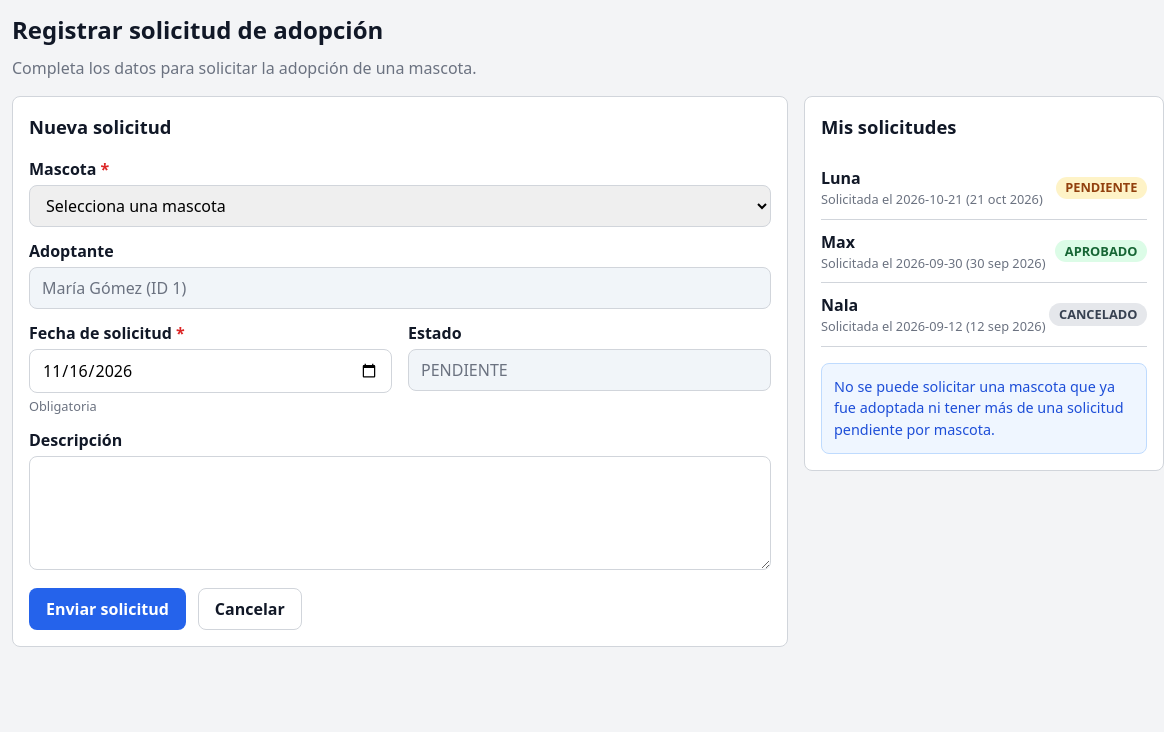
Test: AdoptionRequestPage (HU02) › registers a request and shows it in the list
Select "Toby · Poodle · 3 años · Bogotá · Sin estado" in the dropdown labelled "Mascota *": (400, 206) left=29, top=185, right=771, bottom=227
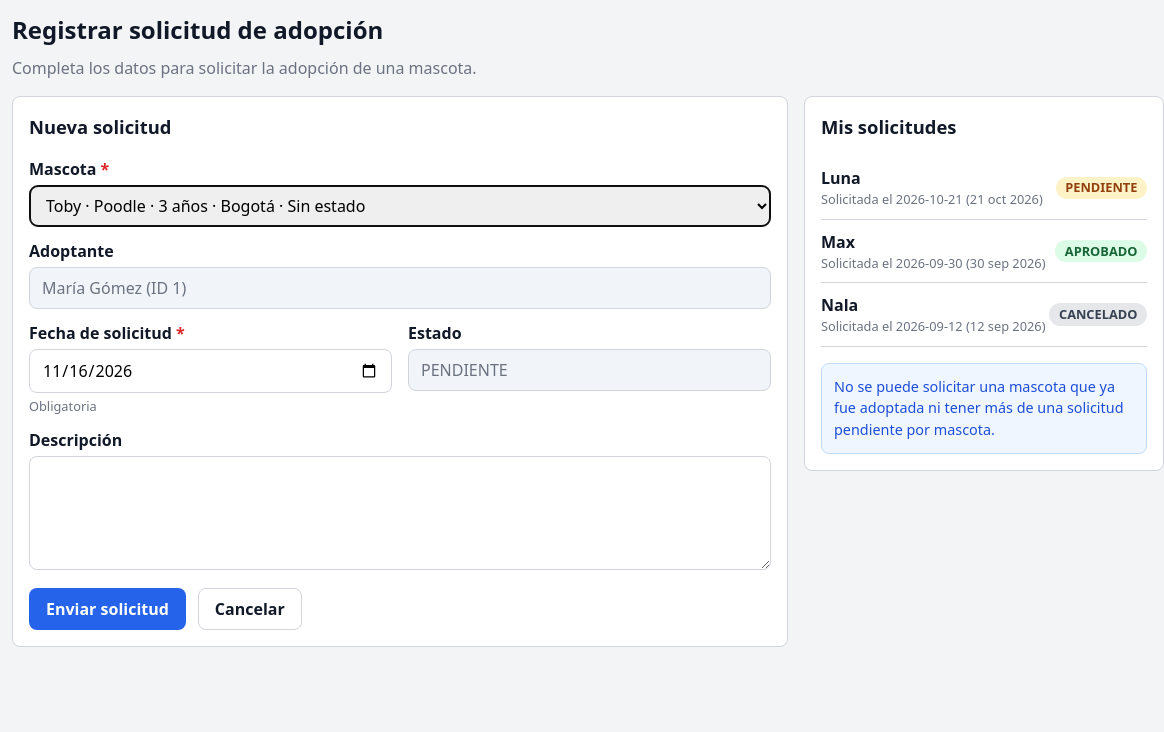
In the text box labelled "Descripción": (400, 513) left=29, top=456, right=771, bottom=570, type "Tengo un patio cercado."
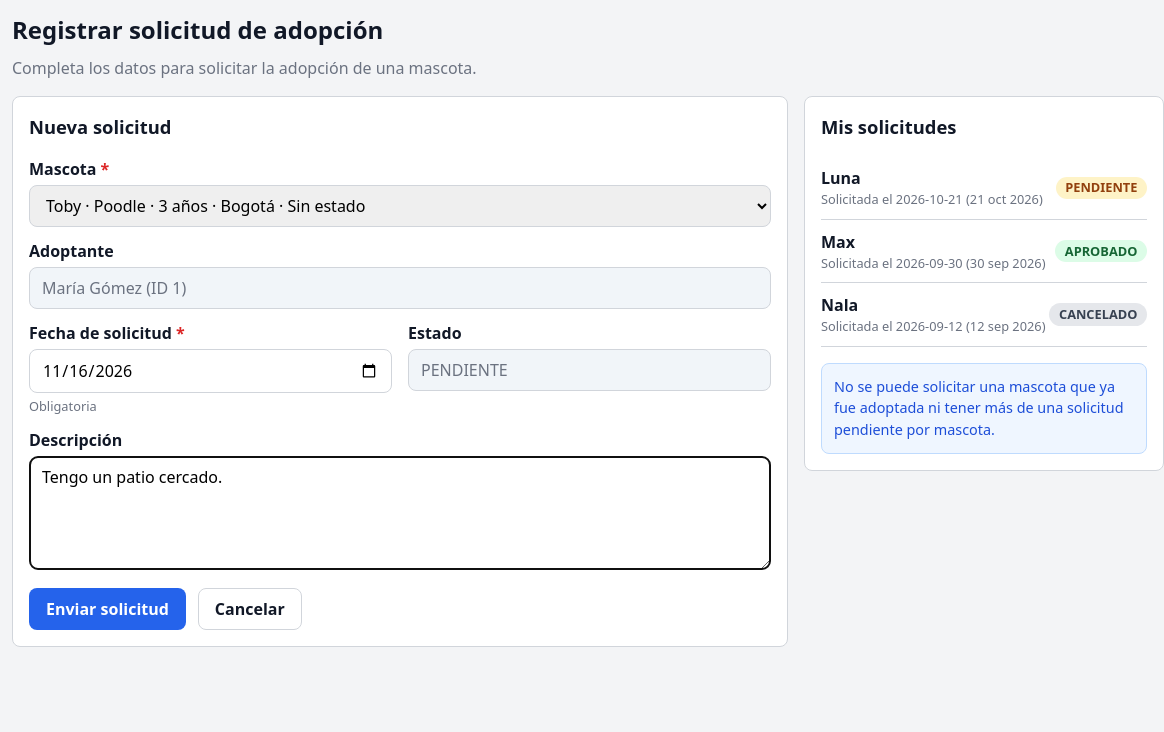
Click the button "Enviar solicitud": (107, 609) left=29, top=588, right=186, bottom=630
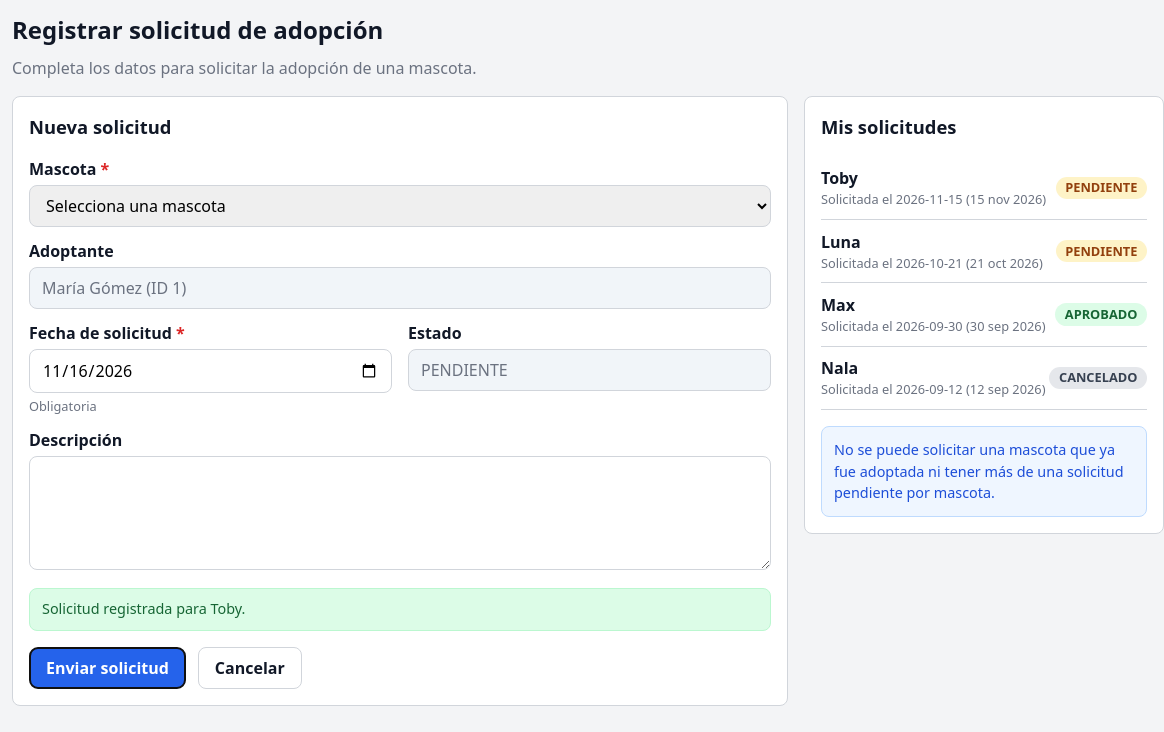
Expected: the message reads "Solicitud registrada para Toby.", left=42, top=599, right=245, bottom=618
Expected: the text "Toby" is shown, left=821, top=167, right=858, bottom=189
